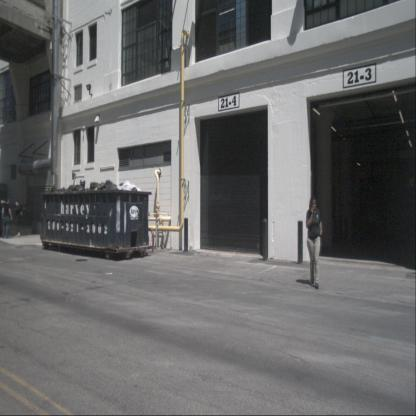human-pedestrian-adult: (306, 194, 322, 289)
